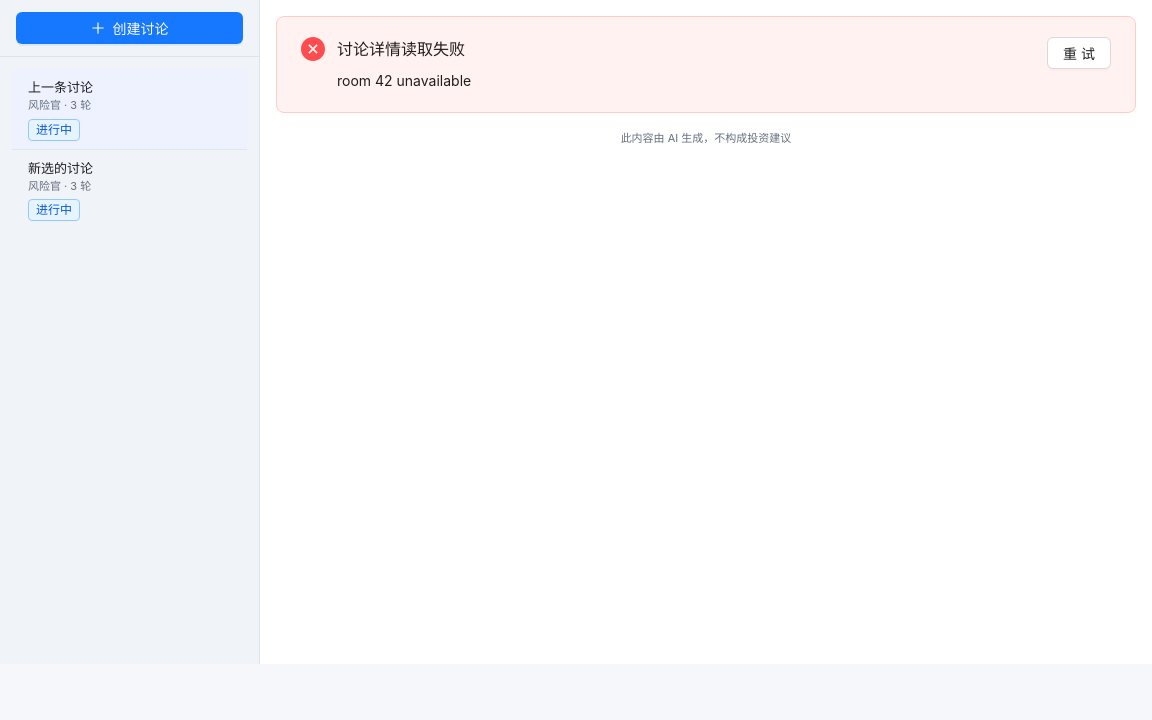
VS32 Discussion 详情：错误原文按房间作用域 › 42 失败后切 43（在途）⇒ 右栏不得再显示 42 的错误原文，也不得显示 42 的内容
Expected: the text "room 42 unavailable" is shown, x1=337 y1=72 x2=471 y2=89
Click the text "新选的讨论": click(60, 168) x1=28 y1=158 x2=93 y2=178
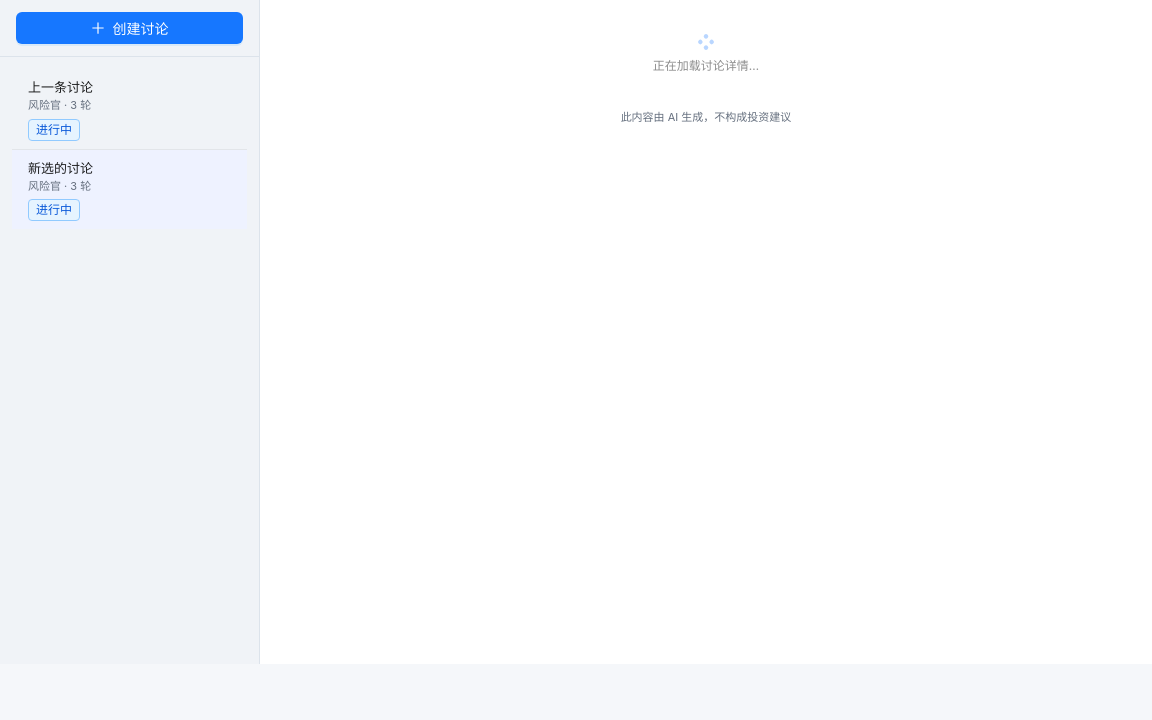
Result: the text "room 42 unavailable" is gone
Result: the text "讨论详情读取失败" is gone
Result: the text "正在加载讨论详情…" is shown at x1=653 y1=58 x2=759 y2=73
